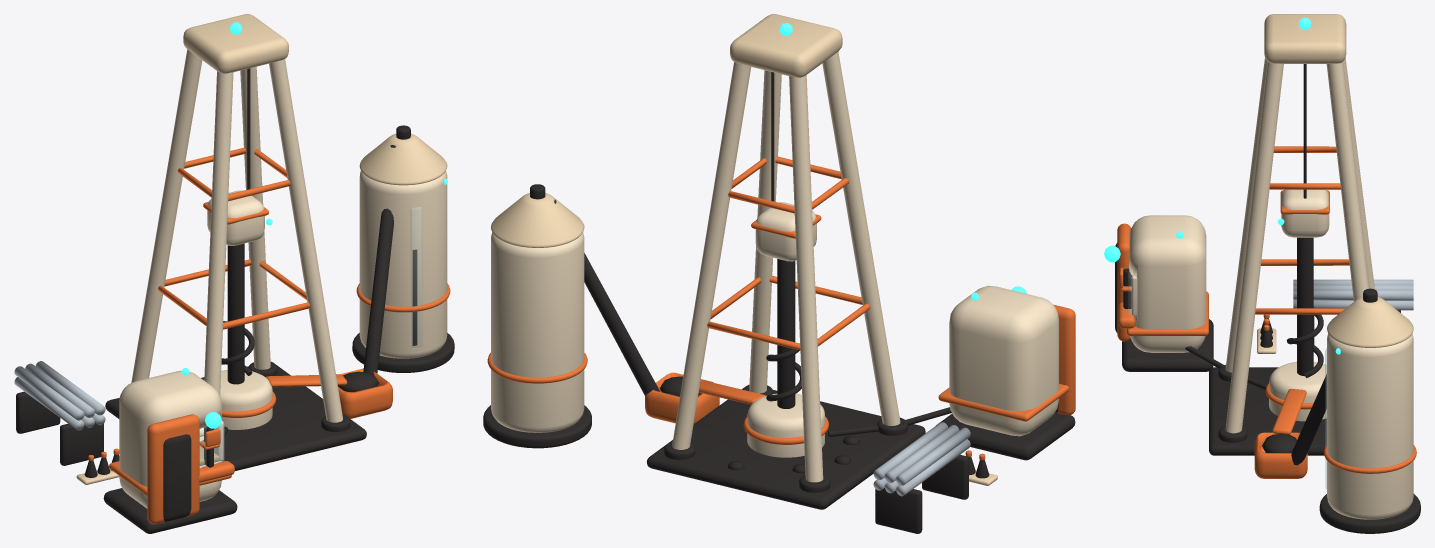
Rendered from drill-10.glb.
3 views of the same model, side by side, from view 1: azimuth 30°, elevation 25°; view 2: azimuth 150°, elevation 25°; view 3: azimuth 270°, elevation 25° (orthographic). The views are drawn at different scales.
Parts seen in each view (by area): view 1: Cube.002, Cone.001, Cube.003, Cone, Cylinder.009, Cube.006; view 2: Cube.002, Cone.001, Cube.003, Cone, Cylinder.009; view 3: Cube.002, Cone.001, Cube.003, Cone, Cylinder.009, Cube.021, Cube.006.
Part boxes in pixels (box(x1,y1,x2,y2)): Cube.002: box(119, 49, 447, 508); Cone.001: box(16, 68, 454, 533); Cube.003: box(88, 147, 450, 524); Cone: box(76, 14, 447, 484); Cylinder.009: box(14, 361, 105, 430); Cube.006: box(199, 207, 422, 467); Cube.002: box(491, 52, 1058, 482); Cone.001: box(483, 72, 1075, 533); Cube.003: box(487, 156, 1075, 460); Cone: box(491, 14, 997, 485); Cylinder.009: box(873, 422, 970, 496); Cube.002: box(1129, 58, 1413, 519); Cone.001: box(1115, 64, 1420, 533); Cube.003: box(1117, 146, 1416, 478); Cone: box(1257, 14, 1413, 353); Cylinder.009: box(1293, 279, 1413, 310); Cube.021: box(1104, 17, 1340, 354); Cube.006: box(1128, 264, 1326, 489).
Bounding box in the file's own units: 2.02 × 1.83 × 1.31.
